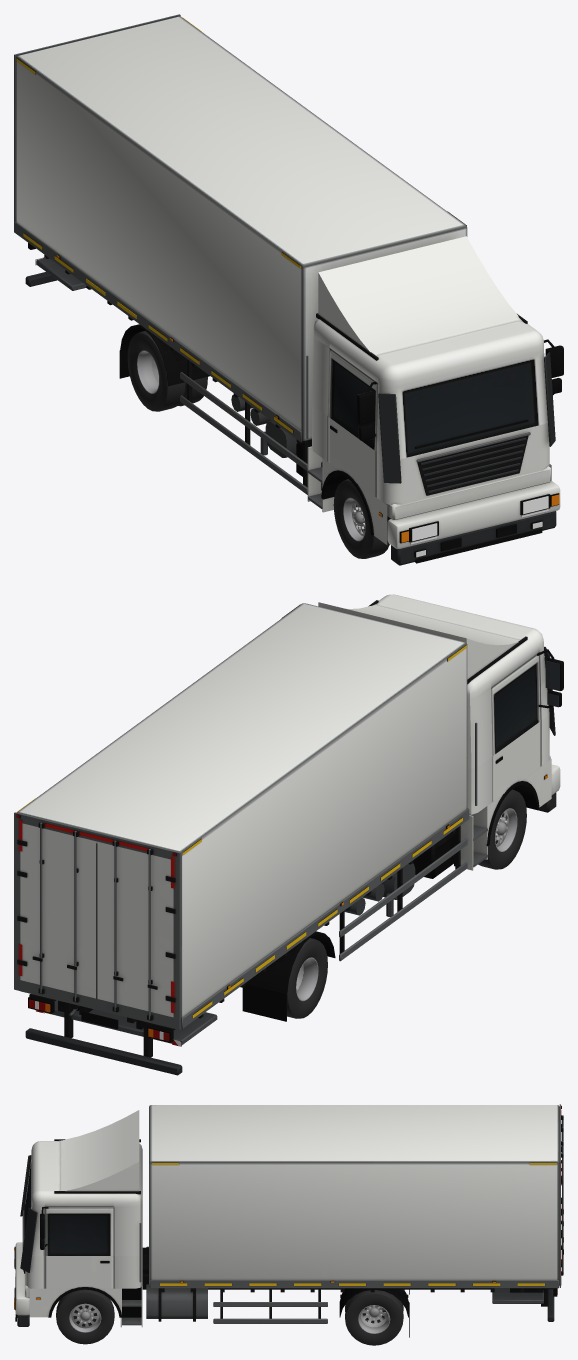
Rendered from verteiler.glb.
3 renders of one model, top to bottom at view 1: azimuth 30°, elevation 25°; view 2: azimuth 150°, elevation 25°; view 3: azimuth 270°, elevation 25°, orthographic. The views are drawn at different scales.
Parts seen in each view (by area): view 1: koerper, rad_hr_gummi, rad_vr_gummi, rad_vr_metall, rad_hr_metall; view 2: koerper, rad_hr_gummi, rad_vr_gummi, rad_hr_metall, rad_vr_metall; view 3: koerper, rad_vl_gummi, rad_hl_gummi, rad_hl_metall, rad_vl_metall.
Boxes of the visible parts, left/top/right/bottom form: koerper: left=14, top=14, right=563, bottom=565; rad_hr_gummi: left=127, top=330, right=185, bottom=411; rad_vr_gummi: left=333, top=479, right=389, bottom=558; rad_vr_metall: left=343, top=497, right=365, bottom=541; rad_hr_metall: left=137, top=350, right=159, bottom=393; koerper: left=14, top=594, right=563, bottom=1075; rad_hr_gummi: left=287, top=938, right=327, bottom=1018; rad_vr_gummi: left=478, top=789, right=526, bottom=869; rad_hr_metall: left=296, top=957, right=318, bottom=1001; rad_vr_metall: left=495, top=808, right=517, bottom=851; koerper: left=14, top=1104, right=563, bottom=1337; rad_vl_gummi: left=56, top=1289, right=114, bottom=1344; rad_hl_gummi: left=345, top=1290, right=403, bottom=1345; rad_hl_metall: left=358, top=1305, right=390, bottom=1333; rad_vl_metall: left=69, top=1303, right=101, bottom=1332.
Bounding box in the file's own units: 3.1 × 3.75 × 10.09.
Materials: 3 (1 with a texture image).
